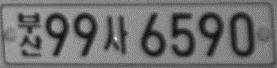0: (228, 11, 255, 58)
5: (170, 11, 196, 59)
6: (139, 11, 167, 58)
9: (197, 11, 225, 57), (72, 11, 99, 57), (44, 11, 70, 57)
부산_V: (17, 11, 43, 59)
사: (102, 14, 128, 55)
